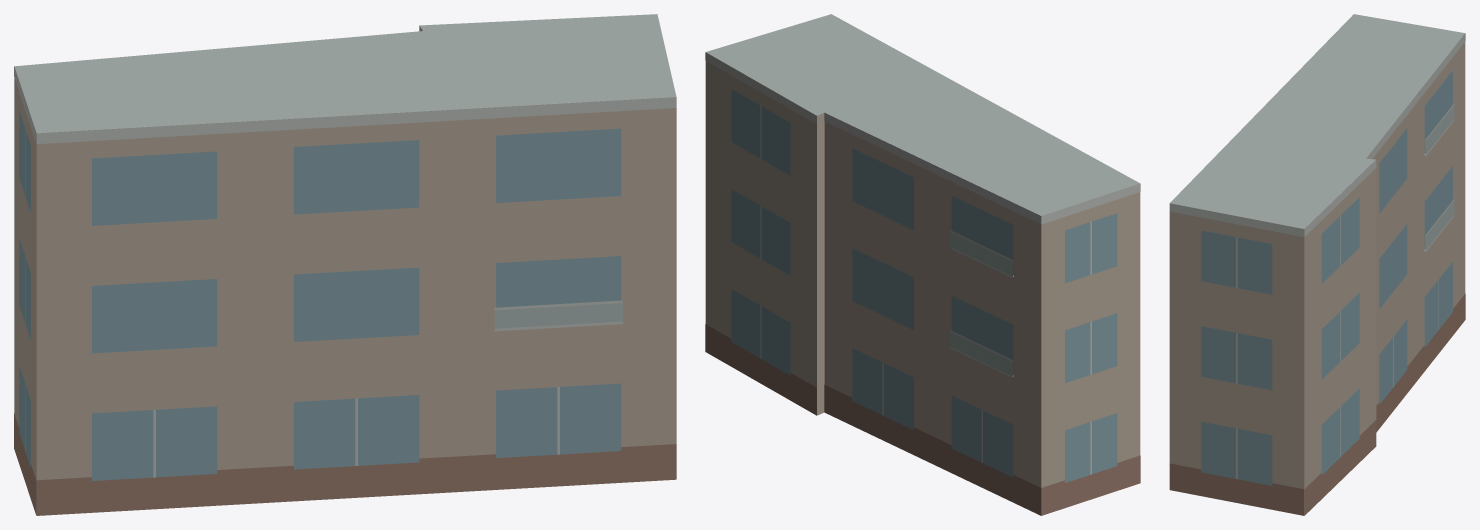
File: survey-upis-32998060.glb
3 renders of one model, left to right at view 1: azimuth 30°, elevation 25°; view 2: azimuth 150°, elevation 25°; view 3: azimuth 270°, elevation 25°, orthographic. The views are drawn at different scales.
Parts seen in each view (by area): view 1: survey-upis-32998060.tmp; view 2: survey-upis-32998060.tmp; view 3: survey-upis-32998060.tmp.
Part boxes in pixels (x1,y1,x2,y2): survey-upis-32998060.tmp: (14, 14, 676, 515); survey-upis-32998060.tmp: (705, 14, 1140, 515); survey-upis-32998060.tmp: (1169, 14, 1465, 515).
Size of the model in its own units: 13.84 by 8.6 by 8.05.
